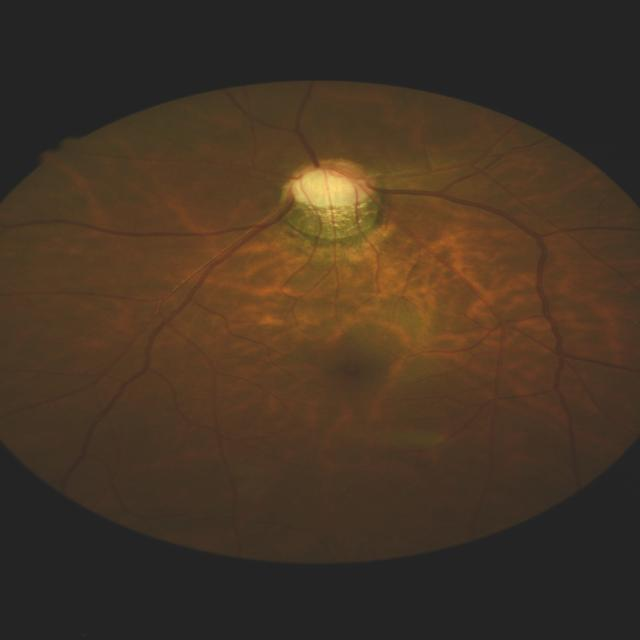cup: (293, 166, 365, 204)
disk: (284, 156, 374, 206)
